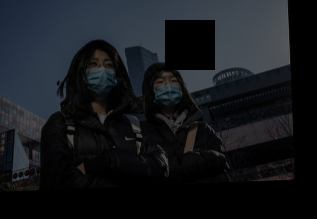with_mask: (82, 55, 118, 102), (152, 73, 184, 110)
